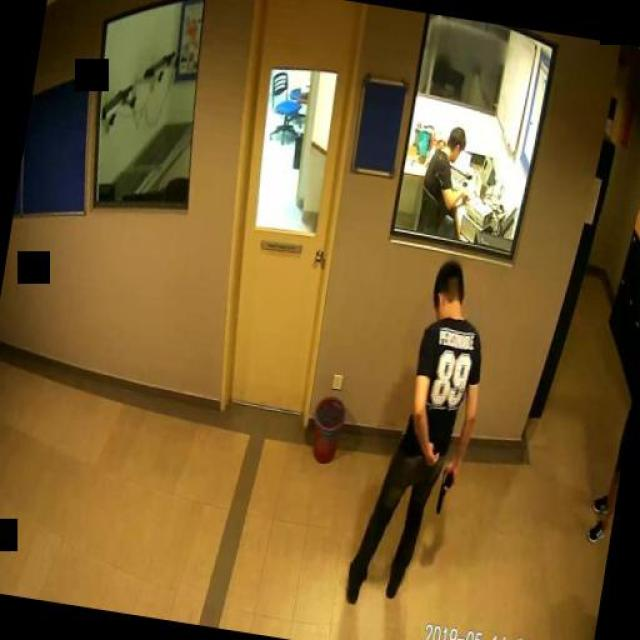gun: (434, 465, 454, 513)
